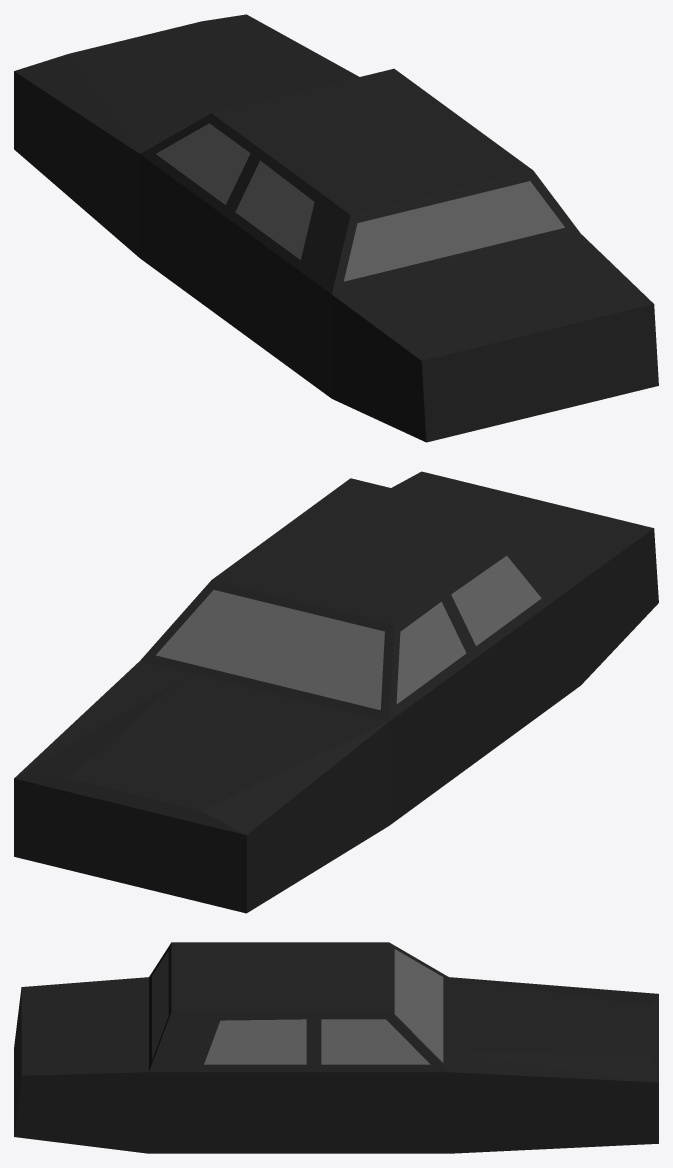
Rendered from towncar_far.glb.
3 views of the same model, one above another, from view 1: azimuth 30°, elevation 25°; view 2: azimuth 150°, elevation 25°; view 3: azimuth 270°, elevation 25° (orthographic). The views are drawn at different scales.
Parts seen in each view (by area): view 1: vehicles/towncar_far; view 2: vehicles/towncar_far; view 3: vehicles/towncar_far.
Boxes of the visible parts, bbox=[...] form: vehicles/towncar_far: bbox=[14, 14, 658, 442]; vehicles/towncar_far: bbox=[14, 471, 658, 913]; vehicles/towncar_far: bbox=[14, 942, 658, 1153].
Bounding box in the file's own units: 1.88 × 1.19 × 5.38.
2 materials, 2 textured.
